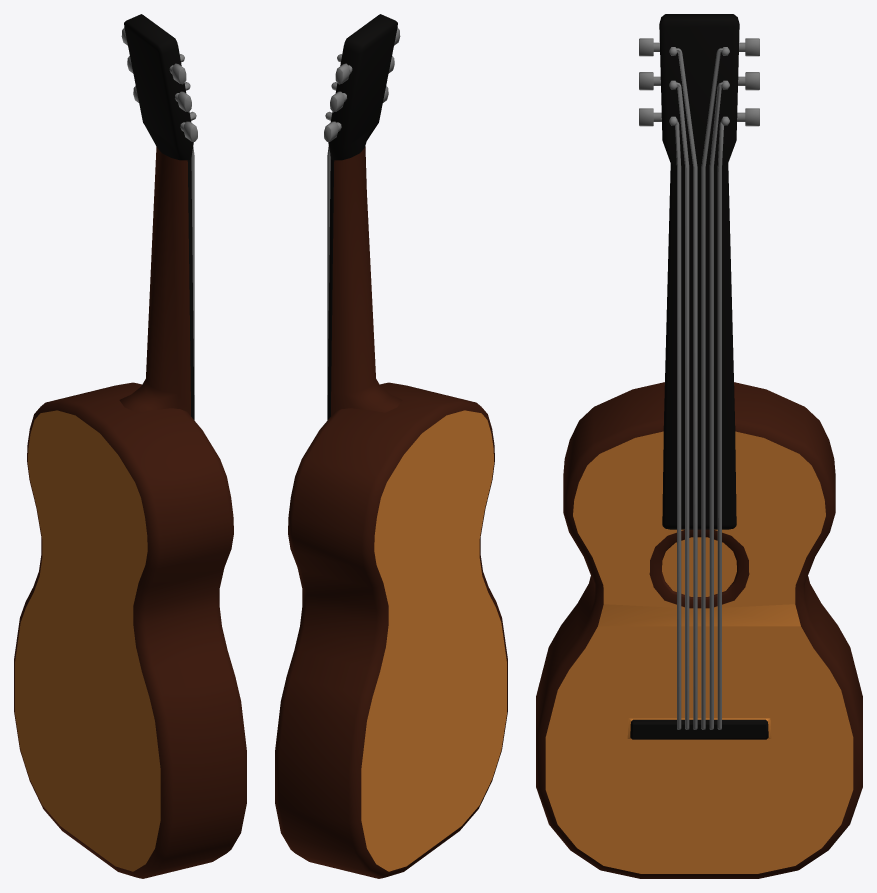
Rendered from guitar.obj.
3 views of the same model, side by side, from view 1: azimuth 30°, elevation 25°; view 2: azimuth 150°, elevation 25°; view 3: azimuth 270°, elevation 25° (orthographic). The views are drawn at different scales.
Parts seen in each view (by area): view 1: Body_Cube.001, Neck_Cylinder, TuningPins_Cylinder.002, Strings_Cylinder.005; view 2: Body_Cube.001, Neck_Cylinder, TuningPins_Cylinder.002, Strings_Cylinder.005; view 3: Body_Cube.001, Neck_Cylinder, Strings_Cylinder.005, TuningPins_Cylinder.002.
Boxes of the visible parts, x1,y1,x2,y2 form: Body_Cube.001: (14,382,246,878); Neck_Cylinder: (119,14,194,419); TuningPins_Cylinder.002: (121,28,197,141); Strings_Cylinder.005: (191,147,194,420); Body_Cube.001: (275,382,507,878); Neck_Cylinder: (327,14,402,419); TuningPins_Cylinder.002: (324,28,400,141); Strings_Cylinder.005: (327,146,330,420); Body_Cube.001: (536,382,862,878); Neck_Cylinder: (659,14,739,529); Strings_Cylinder.005: (675,48,723,729); TuningPins_Cylinder.002: (639,38,759,126).
Bounding box in the file's own units: 0.1583 × 1.27 × 0.44.
